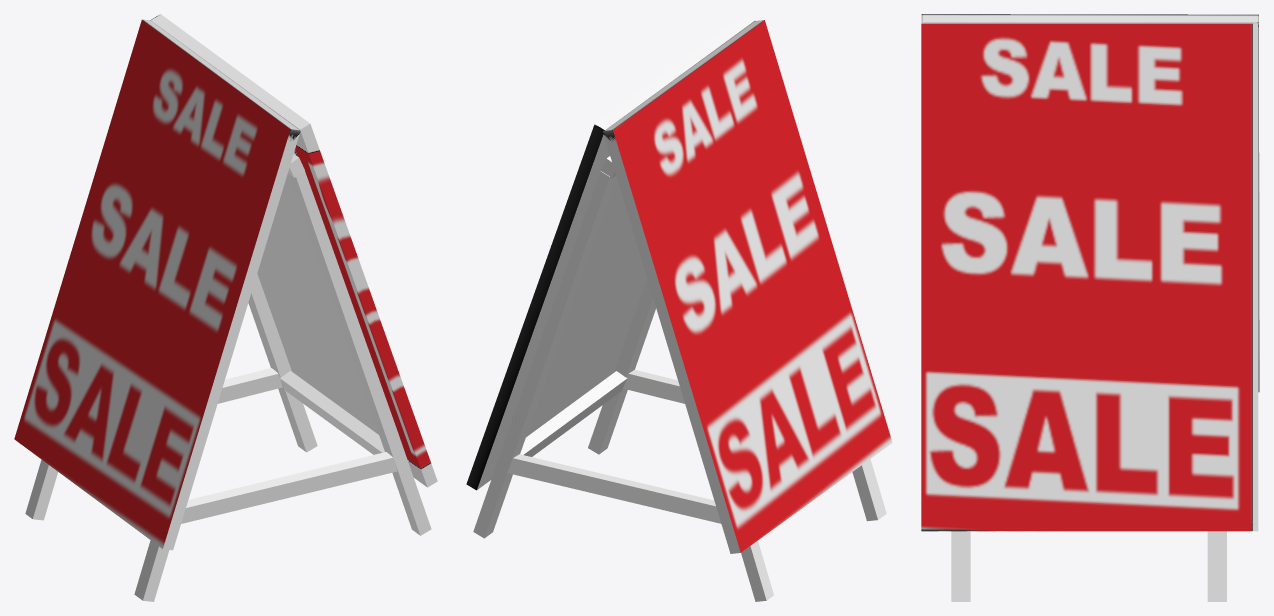
The model's file is midBanner.fbx.
The picture shows the model from 3 angles, left to right: view 1: azimuth 30°, elevation 25°; view 2: azimuth 150°, elevation 25°; view 3: azimuth 270°, elevation 25°; orthographic projection. The views are drawn at different scales.
Parts seen in each view (by area): view 1: Cube.014; view 2: Cube.014; view 3: Cube.014.
Boxes of the visible parts, left/top/right/bottom form: Cube.014: left=14, top=14, right=437, bottom=601; Cube.014: left=466, top=14, right=892, bottom=601; Cube.014: left=921, top=14, right=1259, bottom=601.
Size of the model in its own units: 147 by 220 by 133.
1 material, 1 textured.
